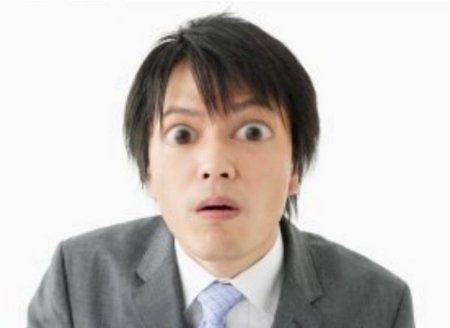neutral: (146, 64, 290, 257)
